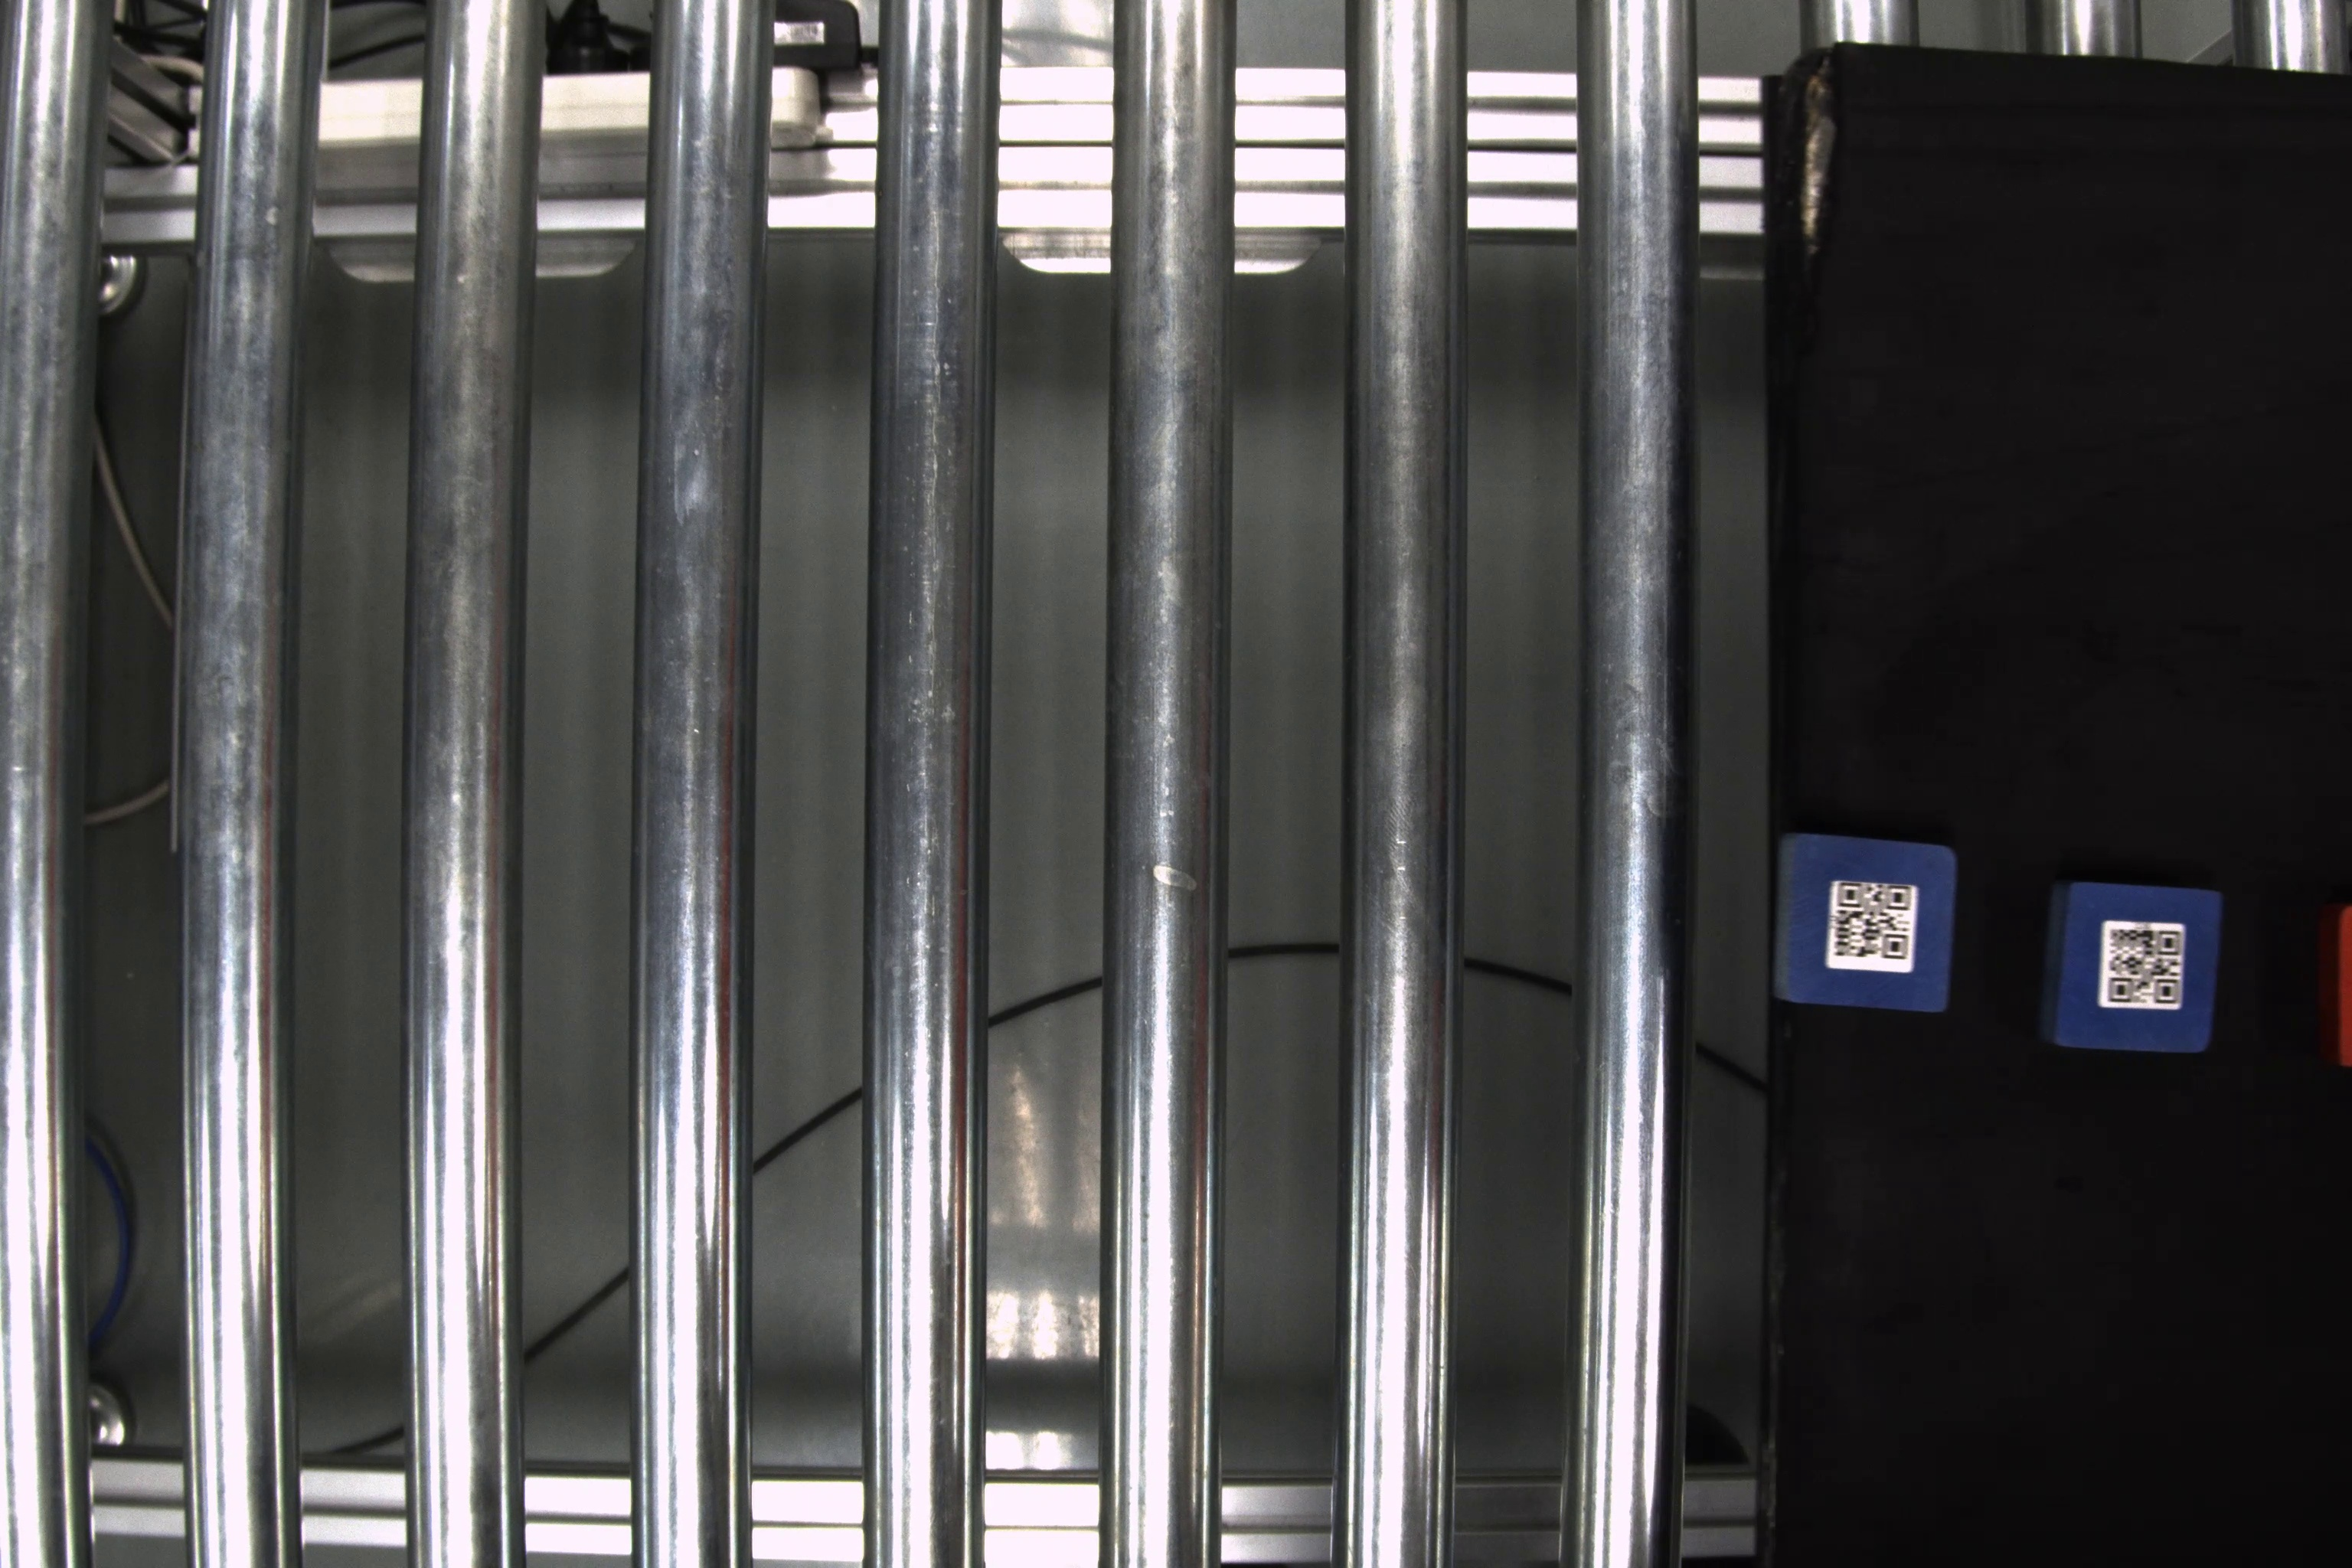wood: (1773, 826, 1958, 1017), (2039, 873, 2224, 1057)
